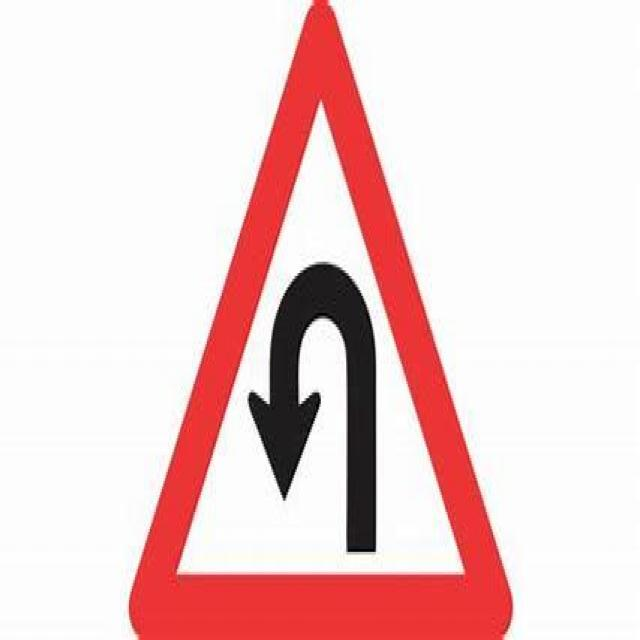LEFT_HAIR_PIN_BEND: (128, 0, 512, 637)
